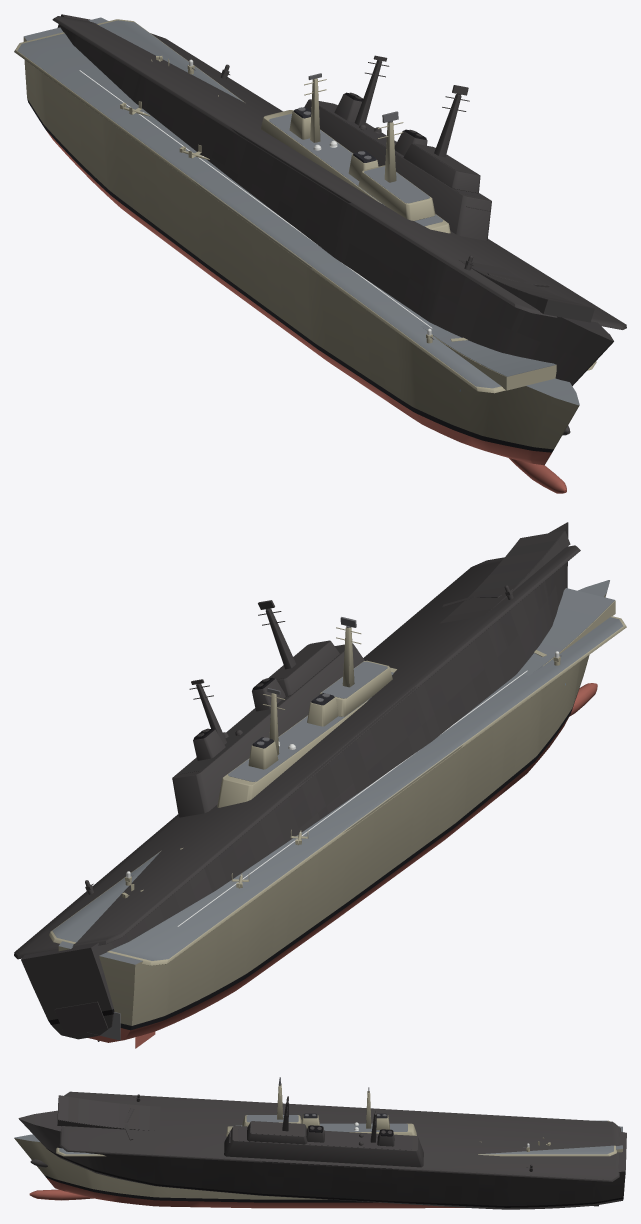
Rendered from carrier__tcg_anadolu_drone_carrier.glb.
3 renders of one model, top to bottom at view 1: azimuth 30°, elevation 25°; view 2: azimuth 150°, elevation 25°; view 3: azimuth 270°, elevation 25°, orthographic. The views are drawn at different scales.
Parts seen in each view (by area): view 1: Hull_Mesh, Wreck; view 2: Wreck, Hull_Mesh; view 3: Wreck, Hull_Mesh.
Boxes of the visible parts, <box> form: Hull_Mesh: <box>14,17,596,493</box>; Wreck: <box>52,14,626,435</box>; Wreck: <box>14,522,580,1041</box>; Hull_Mesh: <box>49,580,626,1048</box>; Wreck: <box>18,1091,626,1209</box>; Hull_Mesh: <box>14,1084,622,1208</box>.
Size of what is drawn, in the model's own units: 48.88 by 59.21 by 242.
